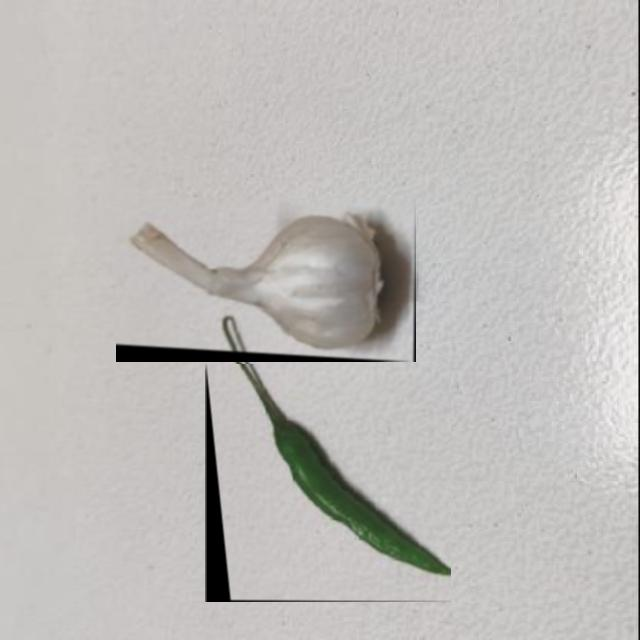Pepper: (204, 364, 450, 602)
garlic: (116, 198, 416, 362)
